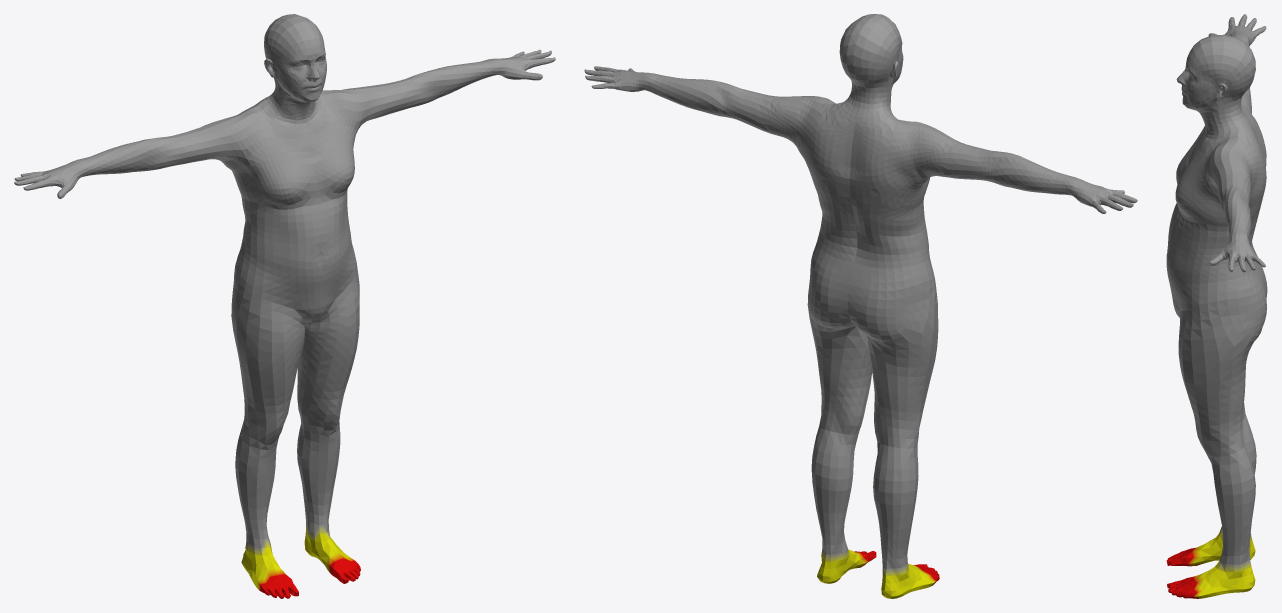
The model's file is zeropose.obj.
3 renders of one model, left to right at view 1: azimuth 30°, elevation 25°; view 2: azimuth 150°, elevation 25°; view 3: azimuth 270°, elevation 25°, orthographic. The views are drawn at different scales.
Size of the model in its own units: 1.75 by 1.72 by 0.2905.
